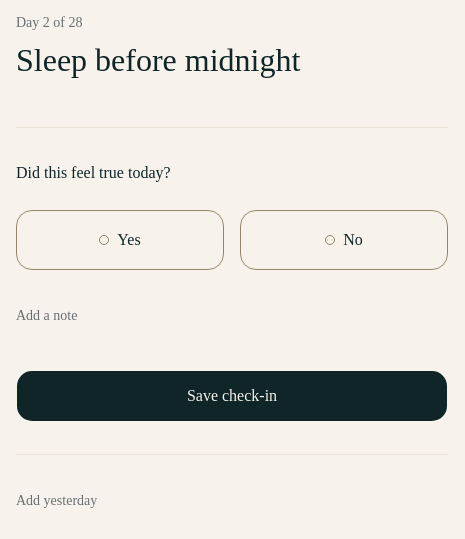
it: TodayDashboard › during the season › yesterday › opens a clearly-labelled yesterday form, separate from today's
The width and height of the screenshot is (465, 539).
Click the button "Add yesterday" at (57, 501), box [16, 479, 97, 523]
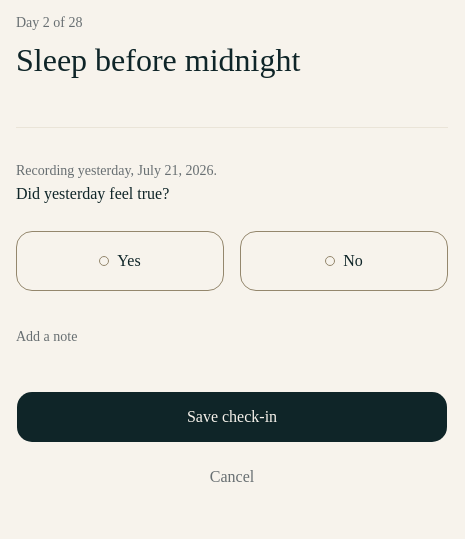
Expected: the text "Recording yesterday, July 21, 2026." is shown, [16, 163, 217, 178]
Expected: the heading "Did yesterday feel true?" is shown, [16, 185, 169, 202]
